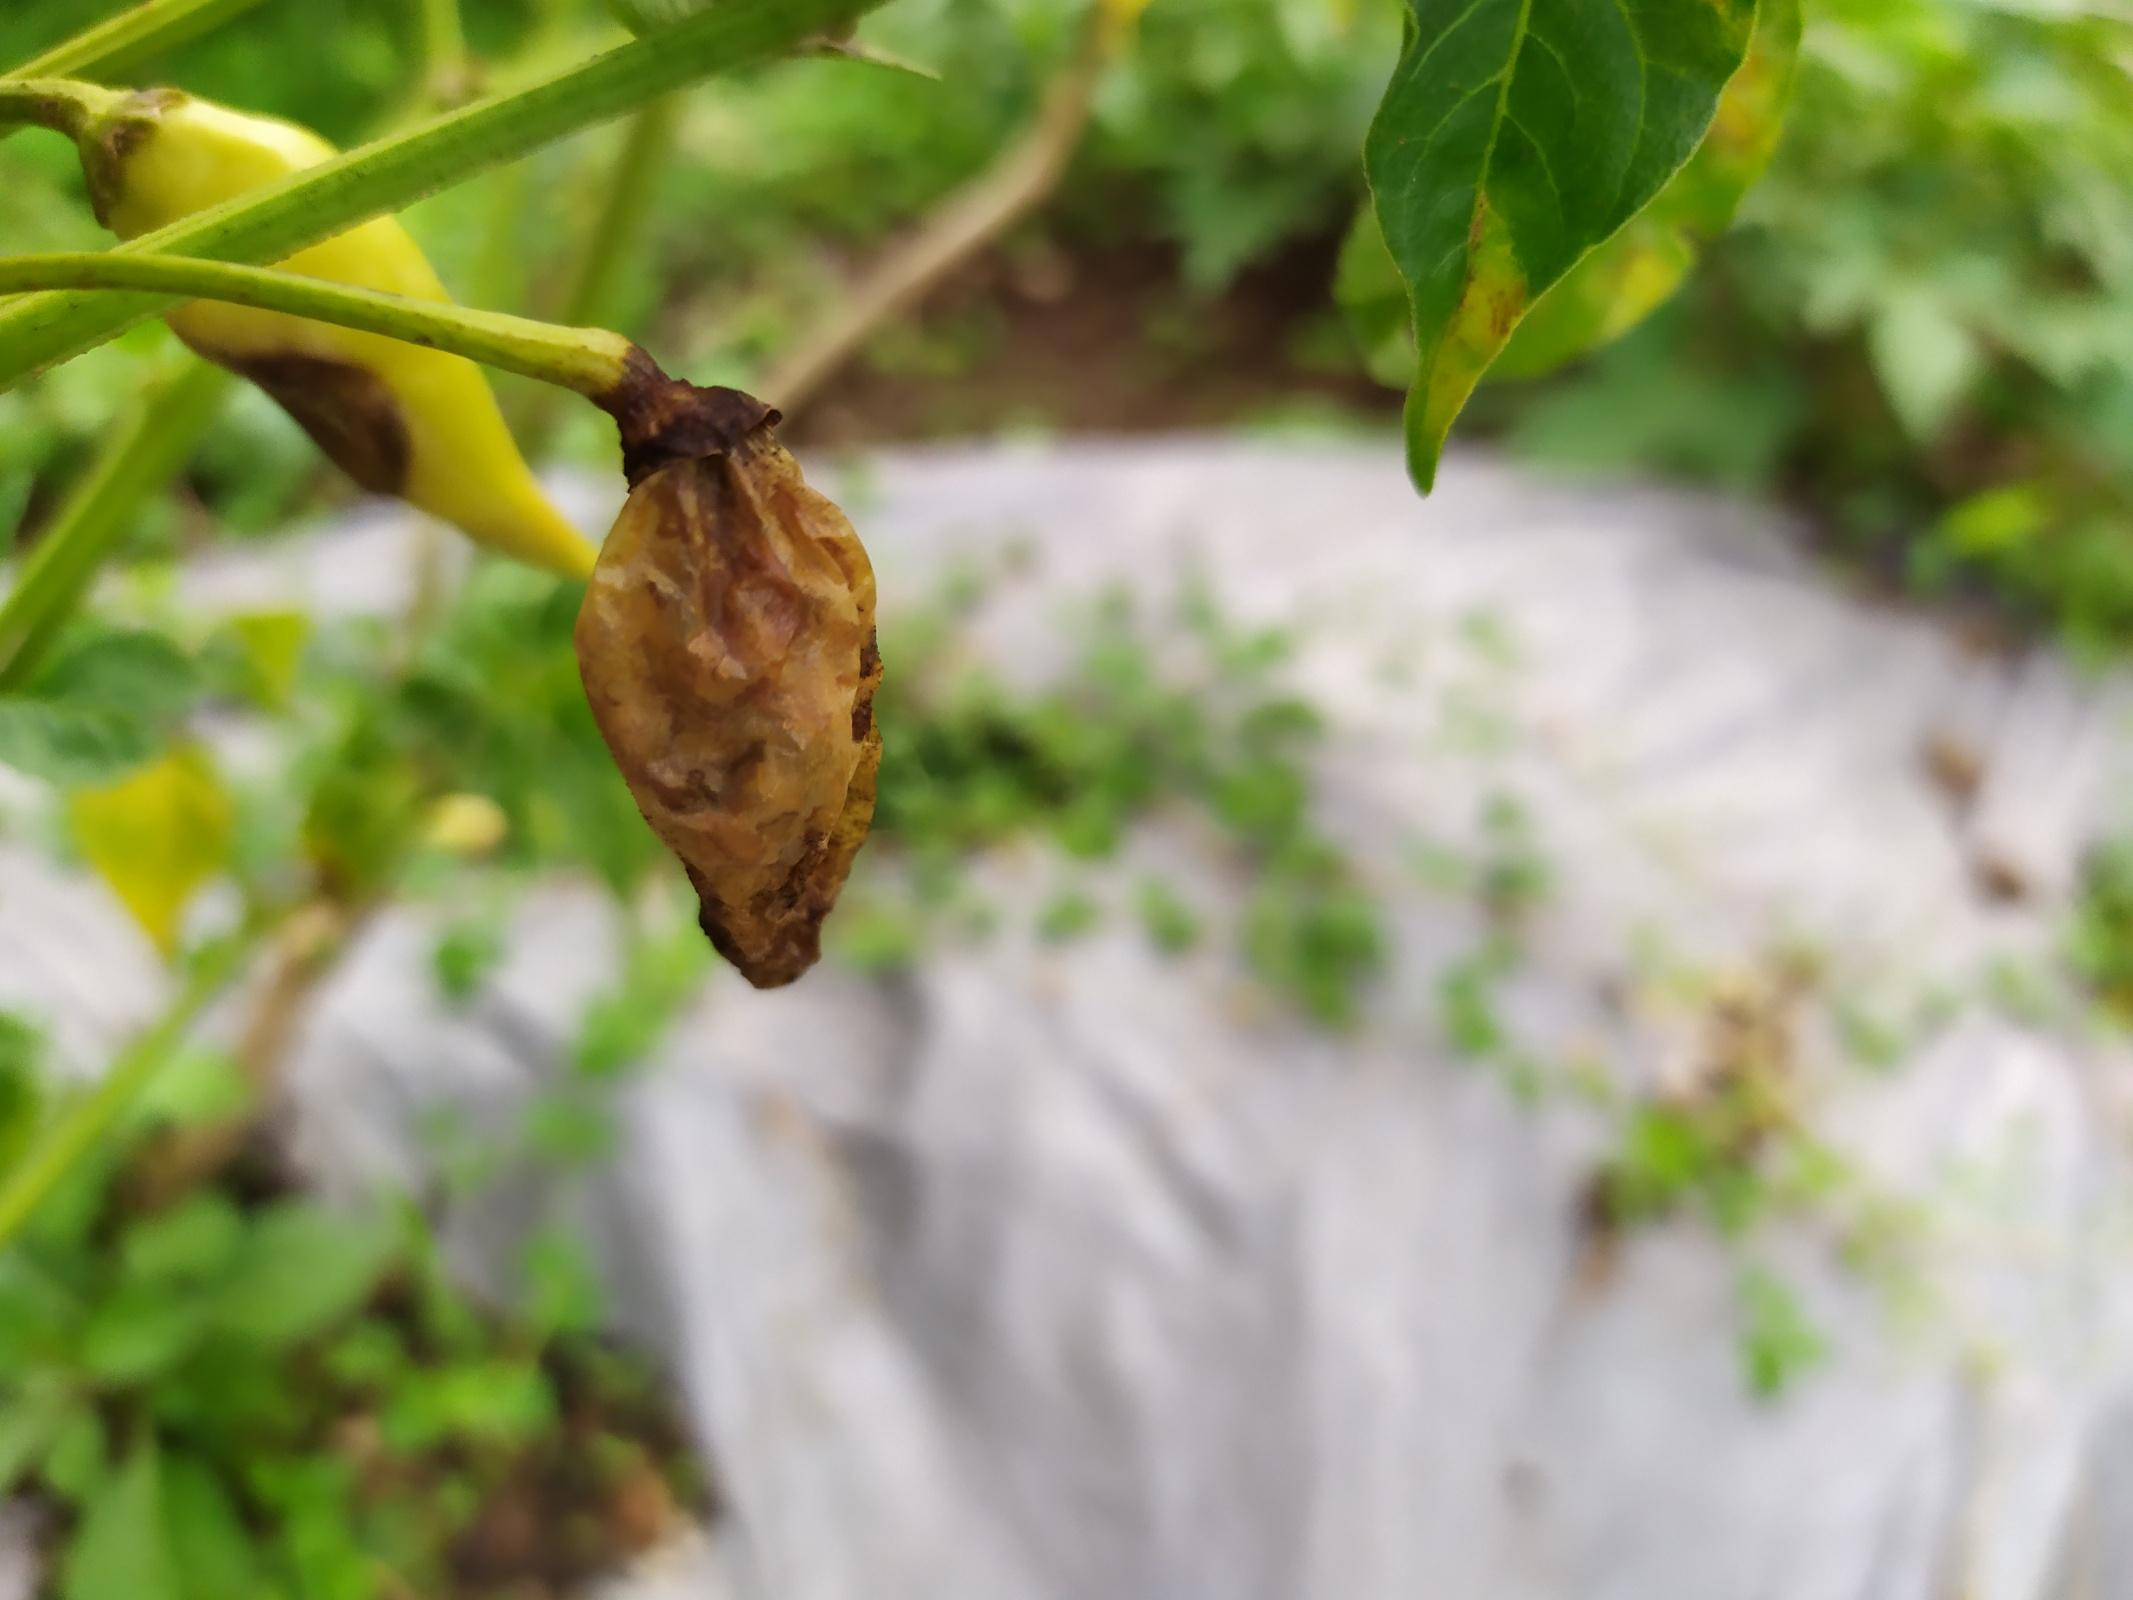antraknosa: (87, 86, 597, 588)
lalat_buah: (577, 385, 884, 993)
